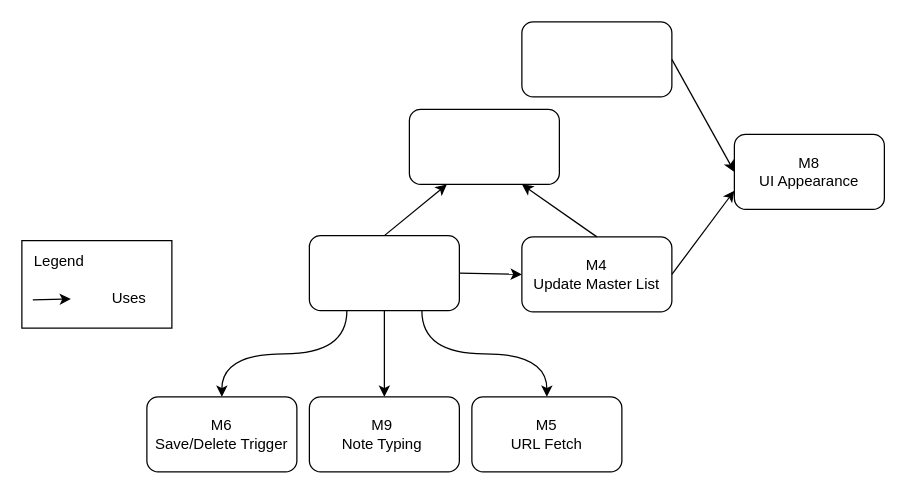
Some shapes in this 906 by 494 pixel diagram are drawn without their labels. Here are the shapes that lost their labels. From the top down, the box of each, then its label:
(521, 21, 672, 97): M3 Master List Visibility
(408, 108, 559, 184): M1 Hardware Hiding
(308, 234, 459, 311): M2 Save/Delete Note
